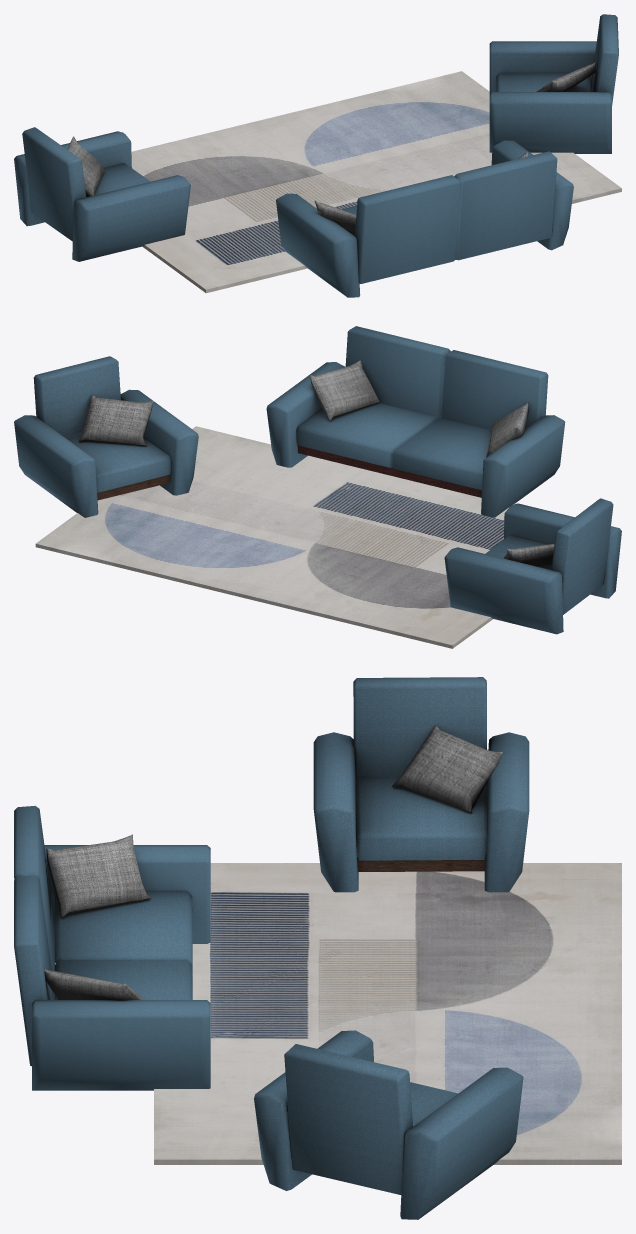
File: M_shafa02.FBX
The picture shows the model from 3 angles, top to bottom: view 1: azimuth 30°, elevation 25°; view 2: azimuth 150°, elevation 25°; view 3: azimuth 270°, elevation 25°; orthographic projection. The views are drawn at different scales.
Parts seen in each view (by area): view 1: M_shafa02_03, M_shafa02_02, M_shafa02_01; view 2: M_shafa02_03, M_shafa02_01, M_shafa02_02; view 3: M_shafa02_03, M_shafa02_02, M_shafa02_01.
Part boxes in pixels (x1=…): M_shafa02_03: x1=131, y1=71, x2=621, y2=293; M_shafa02_02: x1=14, y1=14, x2=618, y2=261; M_shafa02_01: x1=276, y1=140, x2=573, y2=297; M_shafa02_03: x1=35, y1=426, x2=514, y2=648; M_shafa02_01: x1=266, y1=326, x2=565, y2=517; M_shafa02_02: x1=14, y1=356, x2=621, y2=634; M_shafa02_03: x1=154, y1=863, x2=621, y2=1164; M_shafa02_02: x1=254, y1=677, x2=529, y2=1219; M_shafa02_01: x1=14, y1=805, x2=210, y2=1090.
Size of the model in its own units: 8.26 by 1.36 by 5.19.
